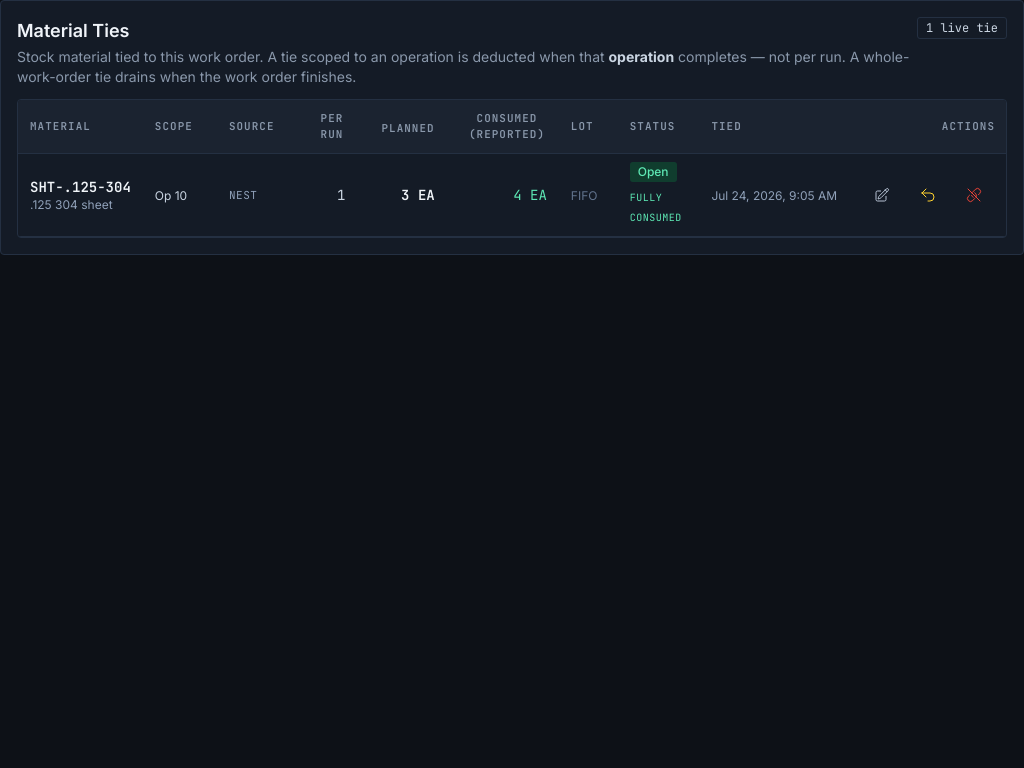
MaterialTiesPanel — the reasoned RETURN verb › does not block the return when the per-lot read fails — the server picks the lots
expect the text "SHT-.125-304" is shown: met, box top-left (30, 177), bottom-right (131, 197)
Step 1. Click the button named "Return consumed SHT-.125-304 to stock" → (928, 195), box top-left (907, 179), bottom-right (949, 211)
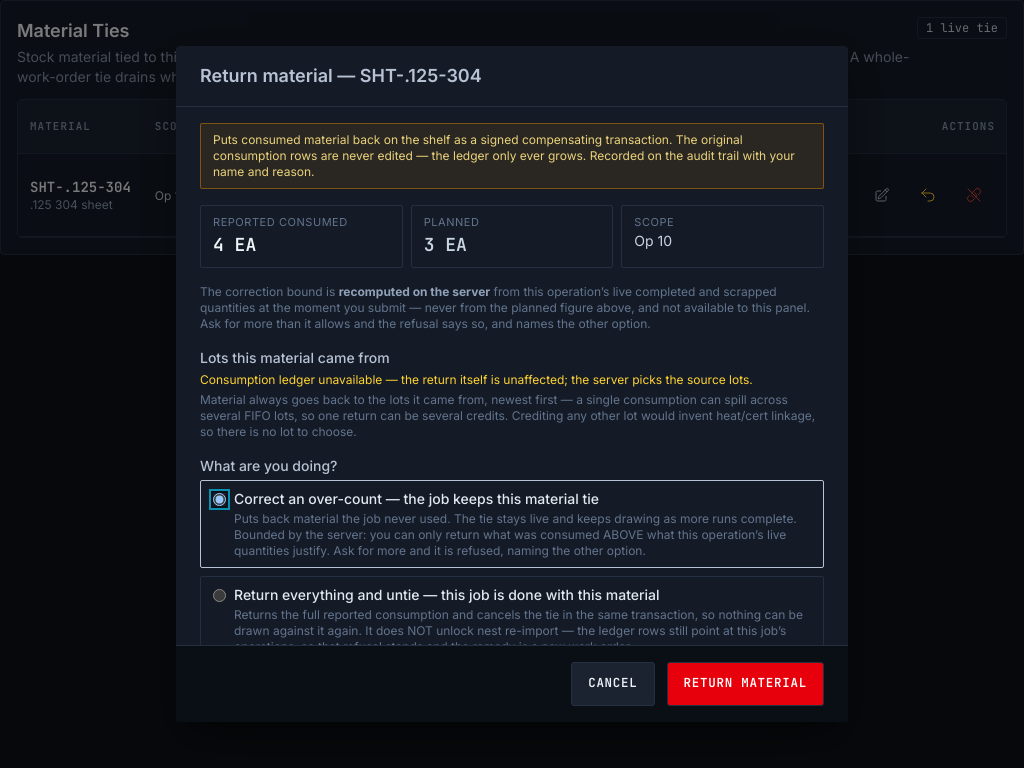
expect the message with test id "wo-tie-return-lots-error" shows "Consumption ledger unavailable": met, box top-left (200, 372), bottom-right (382, 387)
expect the button "Return material" is enabled: met, box top-left (666, 662), bottom-right (824, 706)
